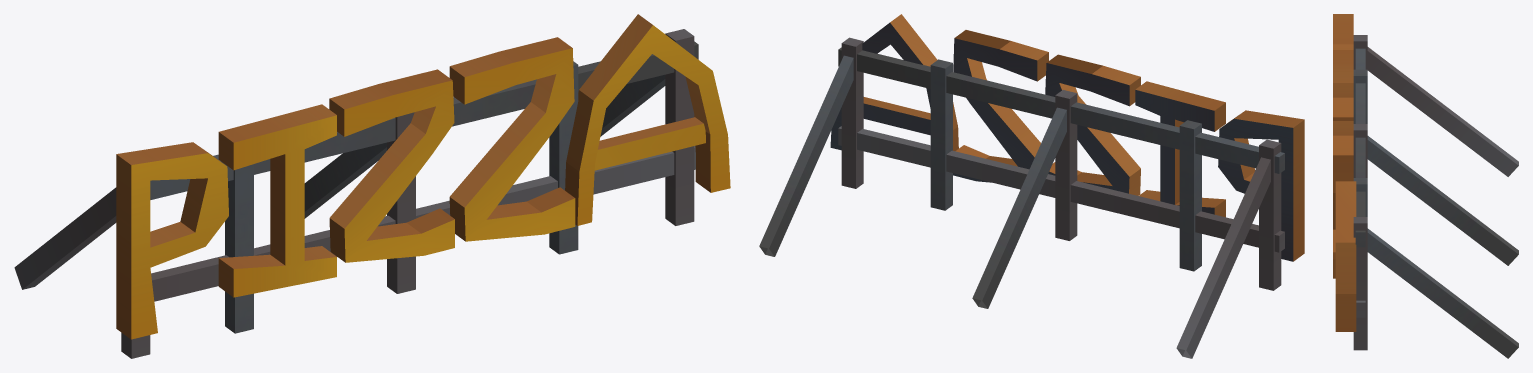
The model's file is SM_Hoarding_04.FBX.
3 views of the same model, side by side, from view 1: azimuth 30°, elevation 25°; view 2: azimuth 150°, elevation 25°; view 3: azimuth 270°, elevation 25° (orthographic). The views are drawn at different scales.
Visible parts, largest first — view 1: SM_Hoarding_04; view 2: SM_Hoarding_04; view 3: SM_Hoarding_04.
Boxes of the visible parts, left/top/right/bottom form: SM_Hoarding_04: left=14, top=14, right=730, bottom=358; SM_Hoarding_04: left=759, top=14, right=1304, bottom=358; SM_Hoarding_04: left=1333, top=14, right=1518, bottom=358.
Size of what is drawn, in the model's own units: 779 by 304 by 290.
